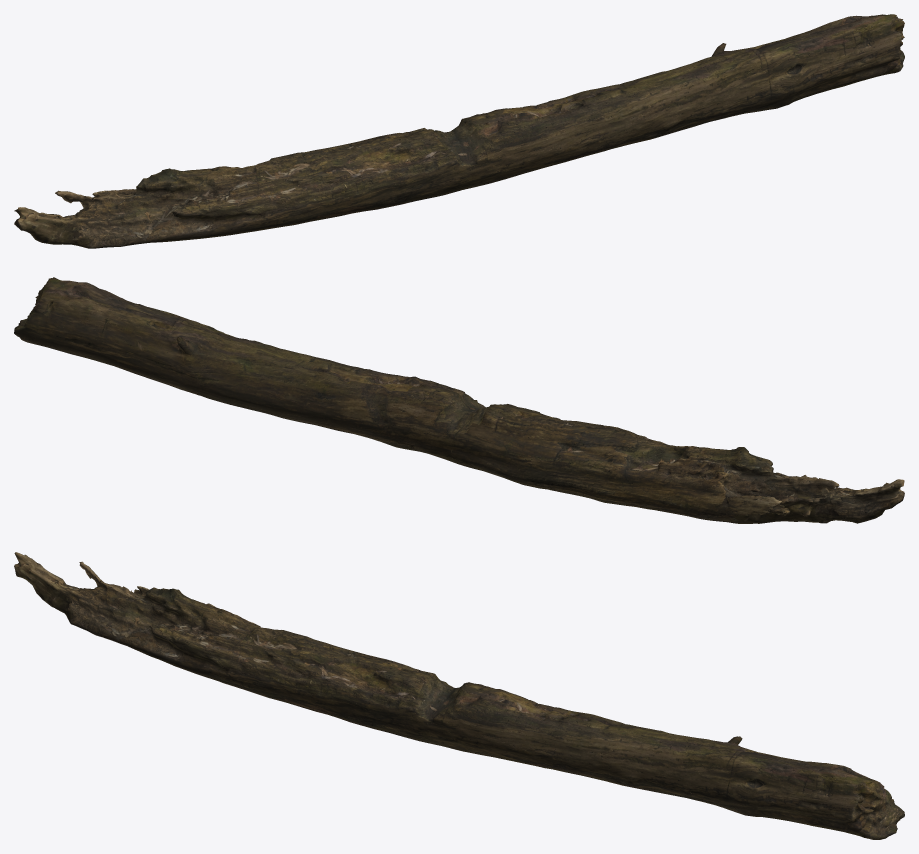
File: dead_tree_trunk.fbx
The picture shows the model from 3 angles, top to bottom: view 1: azimuth 30°, elevation 25°; view 2: azimuth 150°, elevation 25°; view 3: azimuth 330°, elevation 25°; orthographic projection.
Visible parts, largest first — view 1: dead_tree_trunk; view 2: dead_tree_trunk; view 3: dead_tree_trunk.
Part boxes in pixels (x1,y1,x2,y2): dead_tree_trunk: (14, 14, 904, 248); dead_tree_trunk: (14, 277, 904, 523); dead_tree_trunk: (14, 552, 904, 839).
Bounding box in the file's own units: 3.05 × 0.2895 × 0.2766.
1 material, 1 textured.
